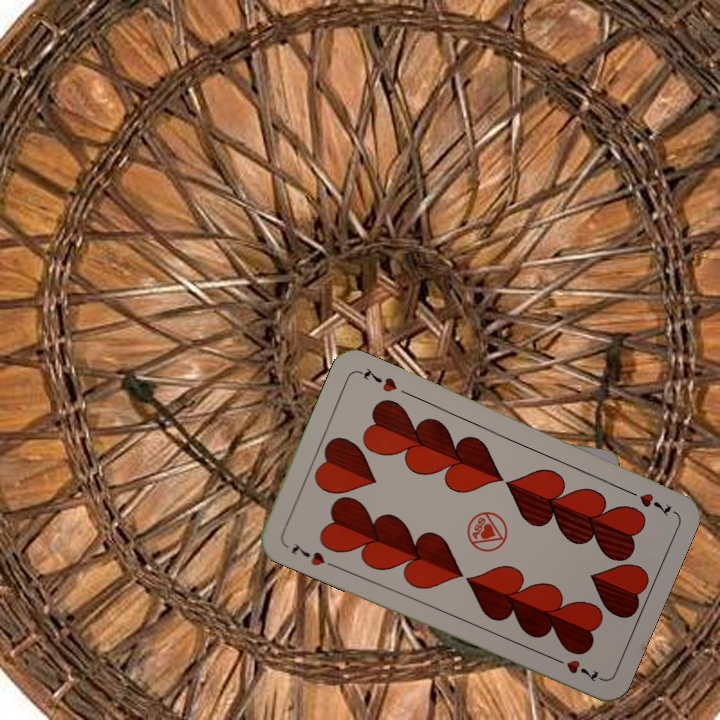H7: (620, 485, 674, 518), (287, 539, 328, 569)
